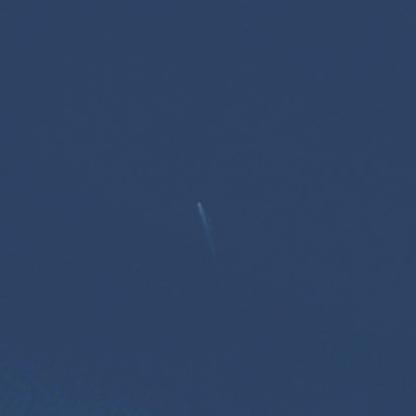ship: (191, 196, 205, 210)
